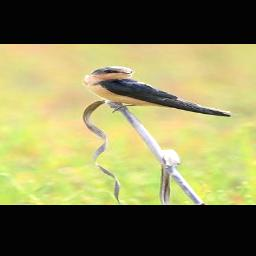Swallow: (81, 63, 248, 120)
